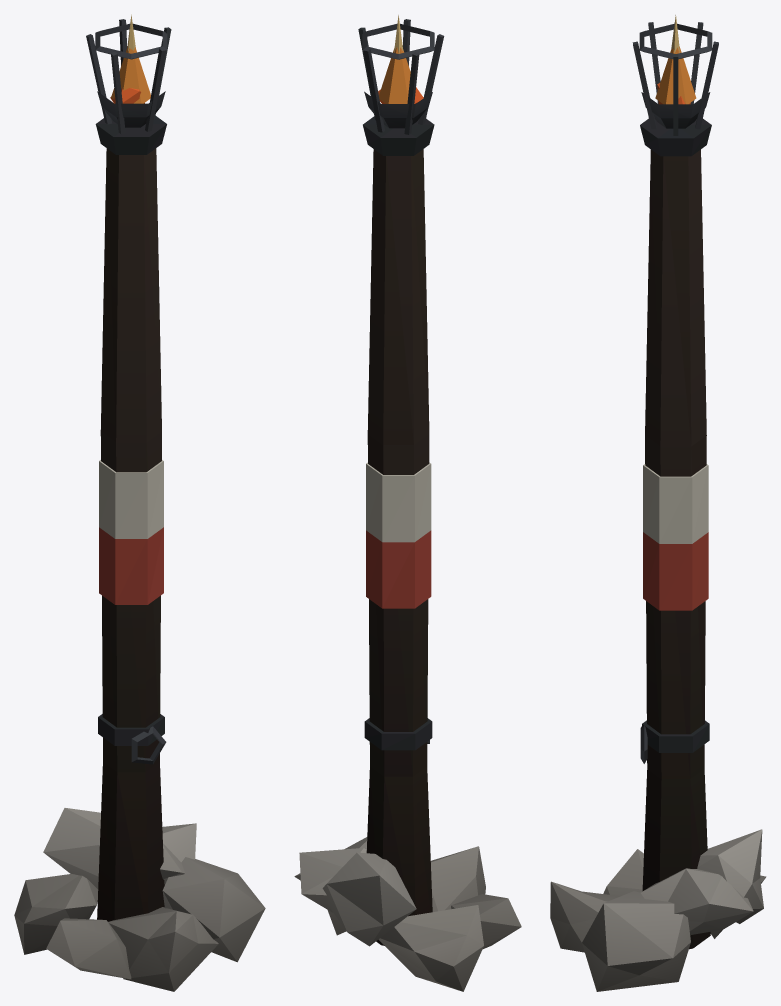
The model's file is harbor-marker-post.glb.
The picture shows the model from 3 angles, left to right: view 1: azimuth 30°, elevation 25°; view 2: azimuth 150°, elevation 25°; view 3: azimuth 270°, elevation 25°; orthographic projection.
Visible parts, largest first — view 1: harbor_marker_post; view 2: harbor_marker_post; view 3: harbor_marker_post.
Part boxes in pixels (x1,y1,x2,y2): harbor_marker_post: (14, 14, 265, 991); harbor_marker_post: (294, 15, 521, 991); harbor_marker_post: (550, 15, 766, 991).
Size of the model in its own units: 0.6623 by 2.83 by 0.5881.
